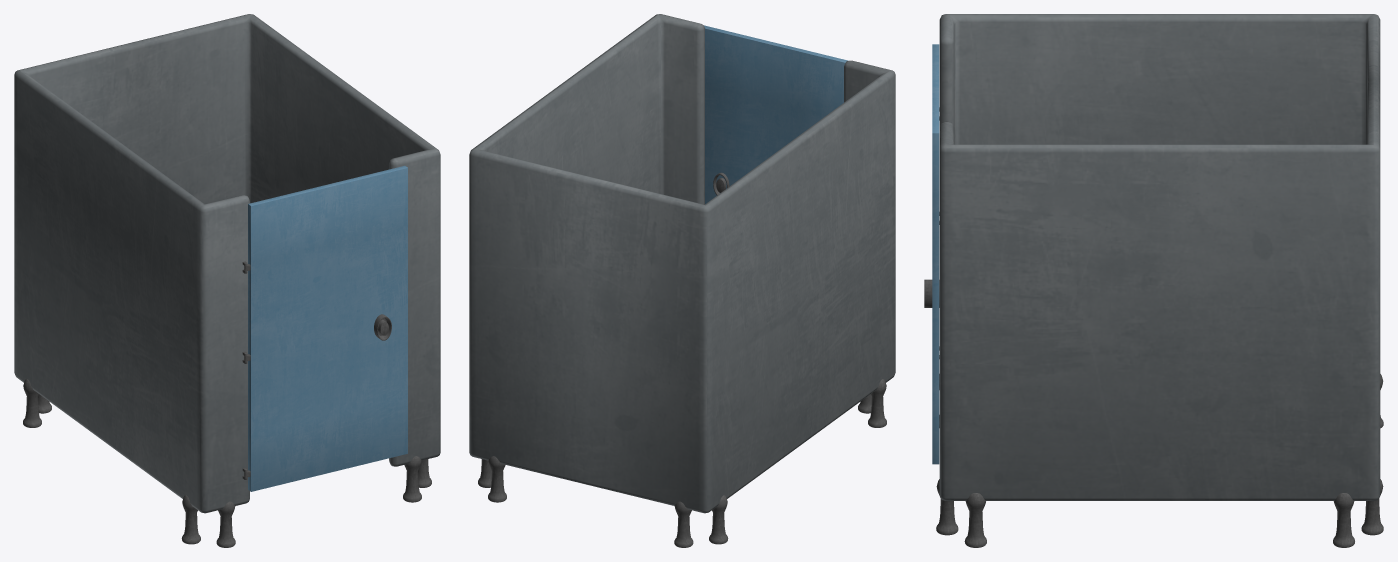
File: cabine_toilette_ferme_bon.fbx
3 renders of one model, left to right at view 1: azimuth 30°, elevation 25°; view 2: azimuth 150°, elevation 25°; view 3: azimuth 270°, elevation 25°, orthographic. The views are drawn at different scales.
Parts seen in each view (by area): view 1: cabine_toilette_fermee; view 2: cabine_toilette_fermee; view 3: cabine_toilette_fermee.
Boxes of the visible parts, left/top/right/bottom form: cabine_toilette_fermee: left=14, top=14, right=440, bottom=547; cabine_toilette_fermee: left=469, top=14, right=895, bottom=547; cabine_toilette_fermee: left=924, top=14, right=1383, bottom=547.
Bounding box in the file's own units: 150 × 200 × 209.
5 materials, 5 textured.
